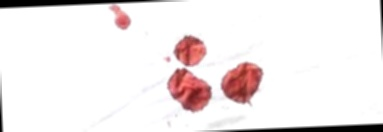blood: (167, 66, 213, 114), (220, 63, 261, 107), (173, 36, 207, 67), (106, 3, 134, 32)
